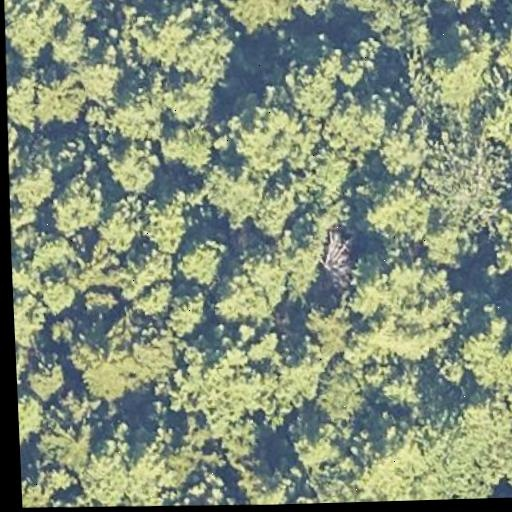tree-top: (159, 315, 331, 465), (341, 246, 470, 367), (209, 205, 338, 323), (304, 411, 440, 504), (430, 383, 512, 500), (64, 331, 173, 409), (415, 130, 508, 221), (130, 0, 235, 75), (419, 20, 494, 114), (218, 98, 299, 179), (291, 39, 359, 127), (74, 424, 141, 508), (453, 298, 512, 393), (356, 172, 438, 240), (333, 0, 433, 54), (119, 432, 184, 508), (36, 396, 99, 474), (371, 104, 433, 180), (199, 157, 263, 228), (318, 89, 386, 154), (43, 174, 106, 234), (28, 64, 91, 124), (236, 453, 307, 506), (3, 0, 64, 61), (106, 136, 165, 195), (472, 67, 512, 152), (173, 232, 231, 289), (309, 366, 365, 425), (219, 0, 308, 37), (166, 467, 245, 507), (13, 290, 58, 360), (160, 70, 214, 128), (134, 194, 187, 252), (415, 217, 473, 270), (110, 87, 163, 144), (91, 195, 143, 253), (7, 154, 55, 214), (480, 206, 512, 289), (20, 459, 74, 508), (23, 352, 70, 402), (163, 287, 209, 336), (17, 385, 48, 449), (34, 272, 77, 316), (6, 67, 38, 123), (432, 0, 510, 19)
